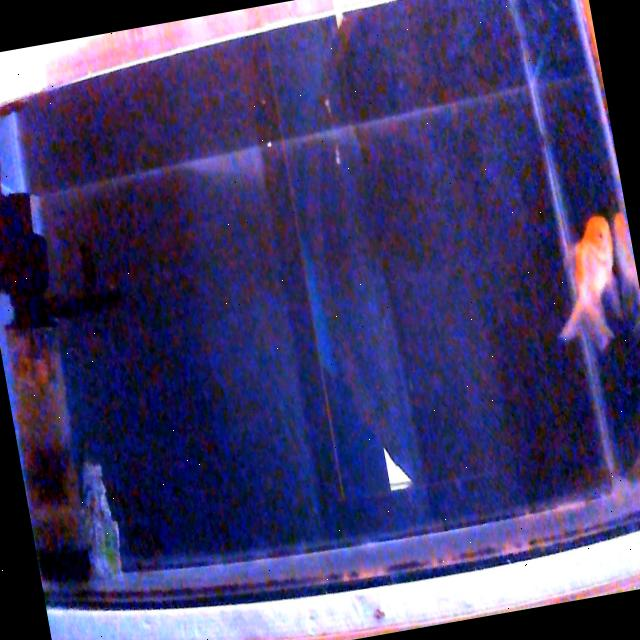fish: (540, 210, 632, 358), (605, 212, 640, 313)
